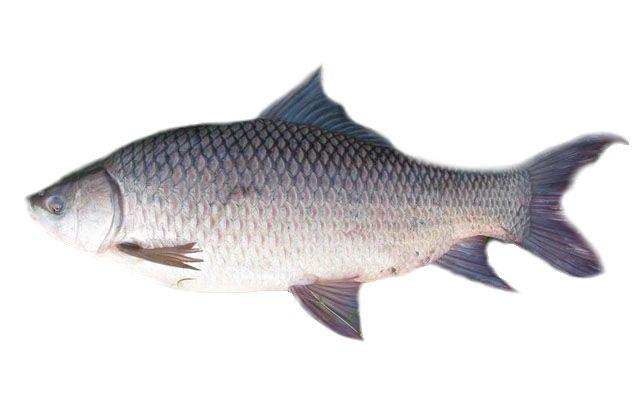Indian Carp: (25, 68, 626, 337)
